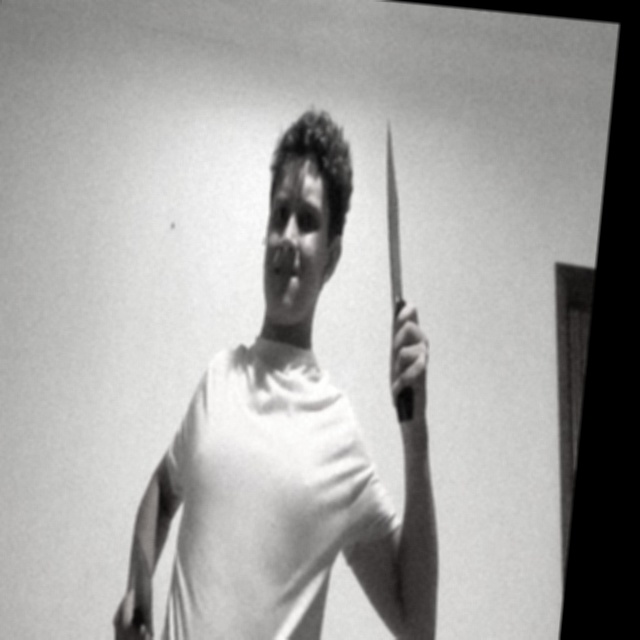Sharp-Object: (371, 119, 419, 310), (127, 540, 162, 638)
